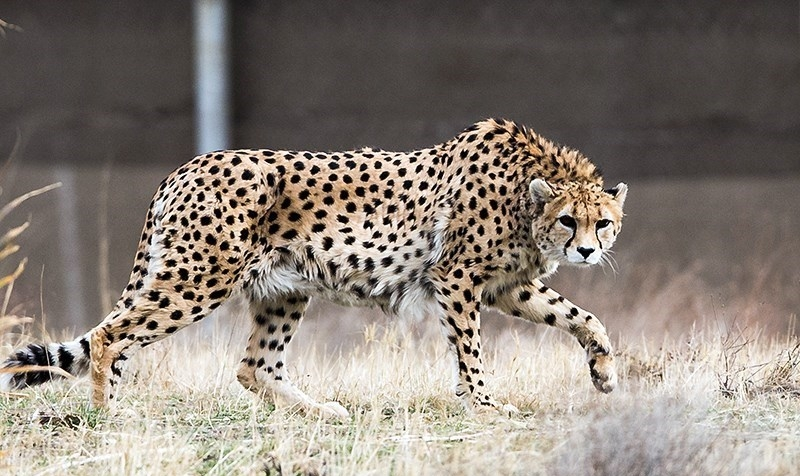cheetah: (519, 157, 642, 285)
